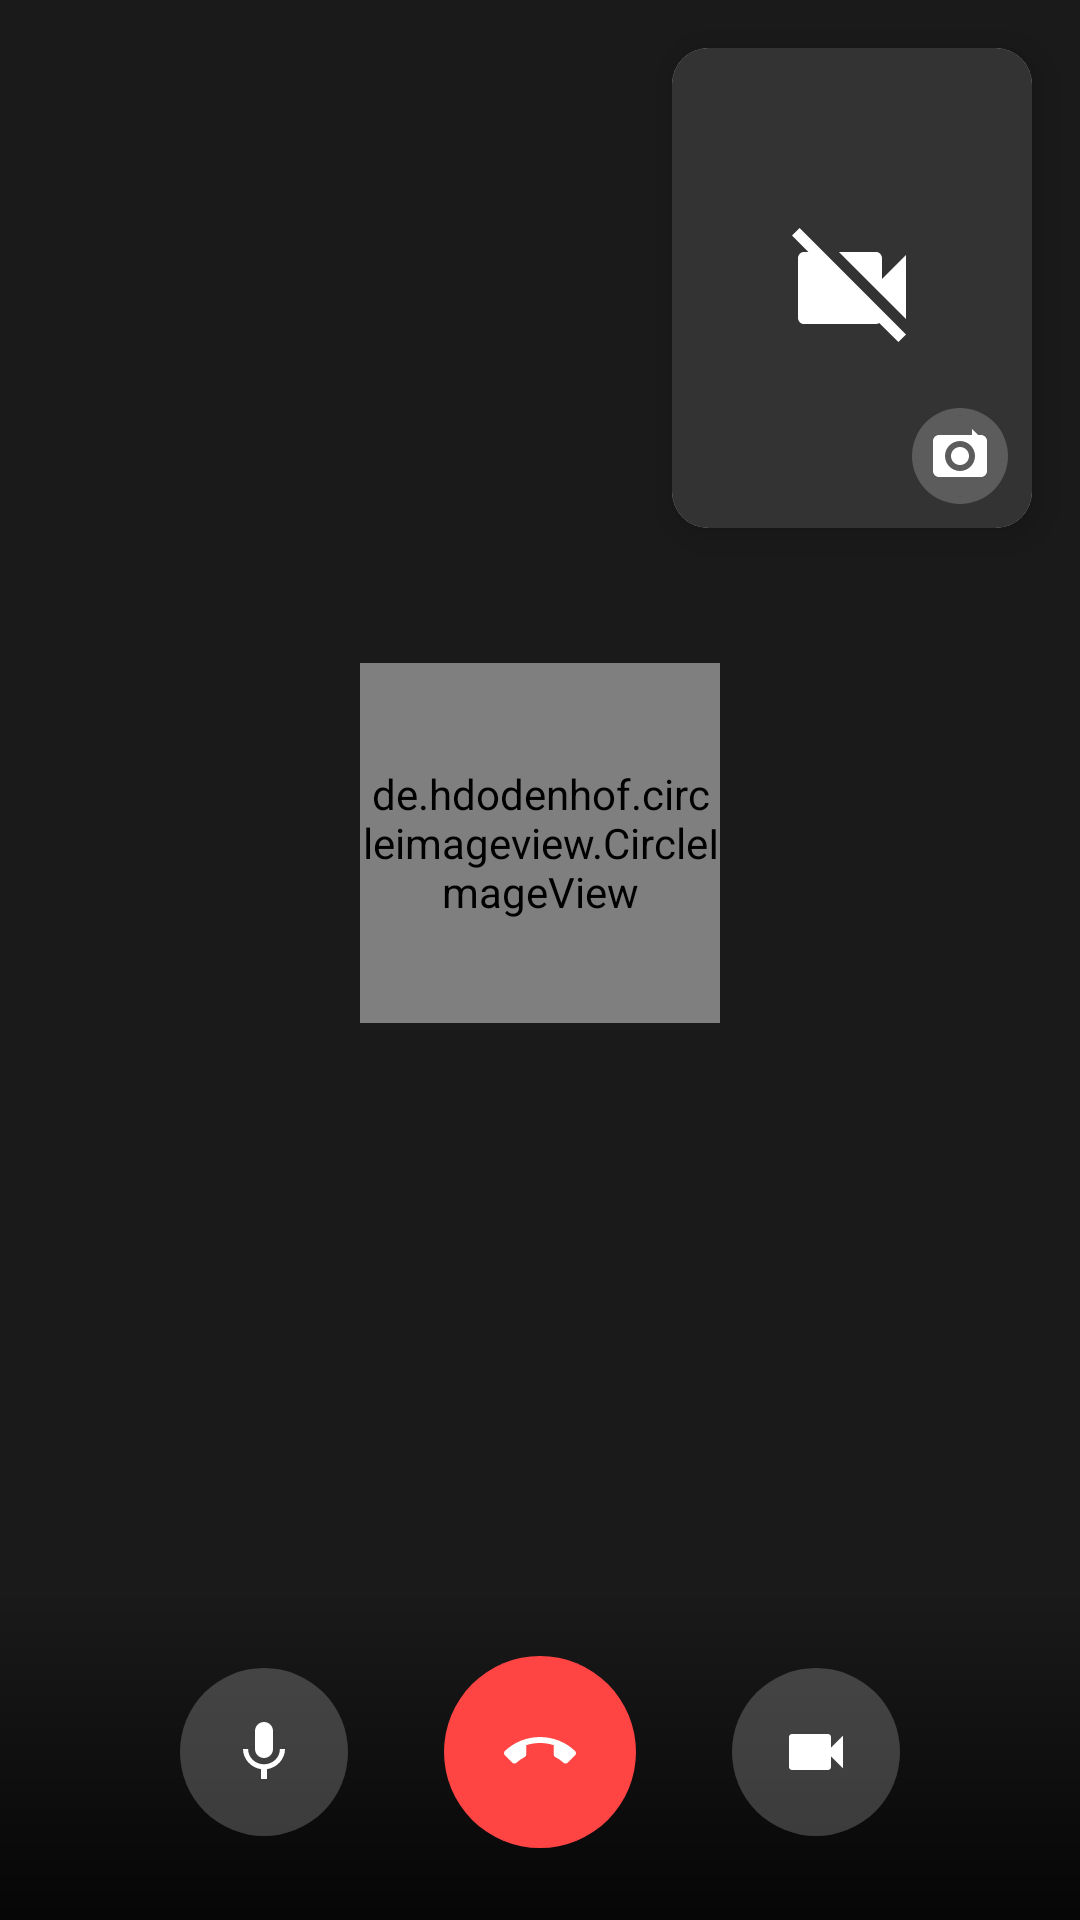

Where icons sit on this 1080w x 1920h app screen, as (x1, y1, x2, y2):
End Call: (444, 1656, 636, 1848)
Mute: (180, 1668, 348, 1836)
Toggle Video: (732, 1668, 900, 1836)
video off: (792, 228, 906, 342)
